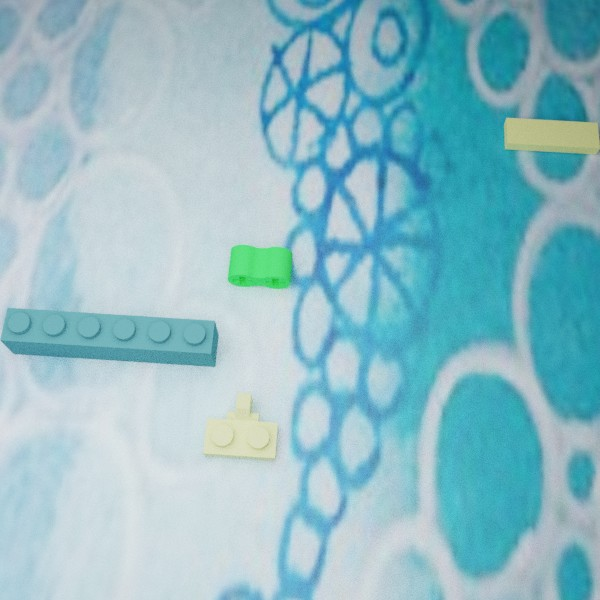lego: (0, 307, 218, 367), (203, 392, 278, 460), (504, 117, 600, 154), (227, 244, 292, 289)
